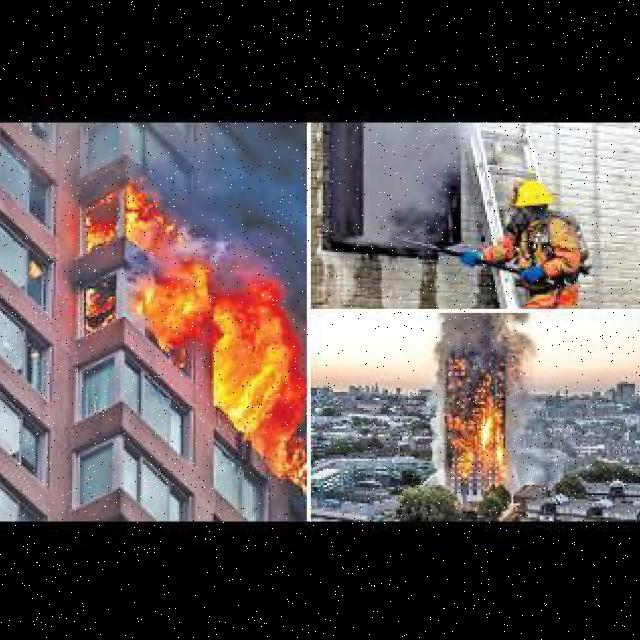fire: (84, 183, 305, 479), (436, 372, 509, 491)
smoke: (171, 120, 305, 282), (357, 120, 477, 232), (505, 313, 546, 477), (422, 307, 542, 363), (414, 311, 447, 491)
